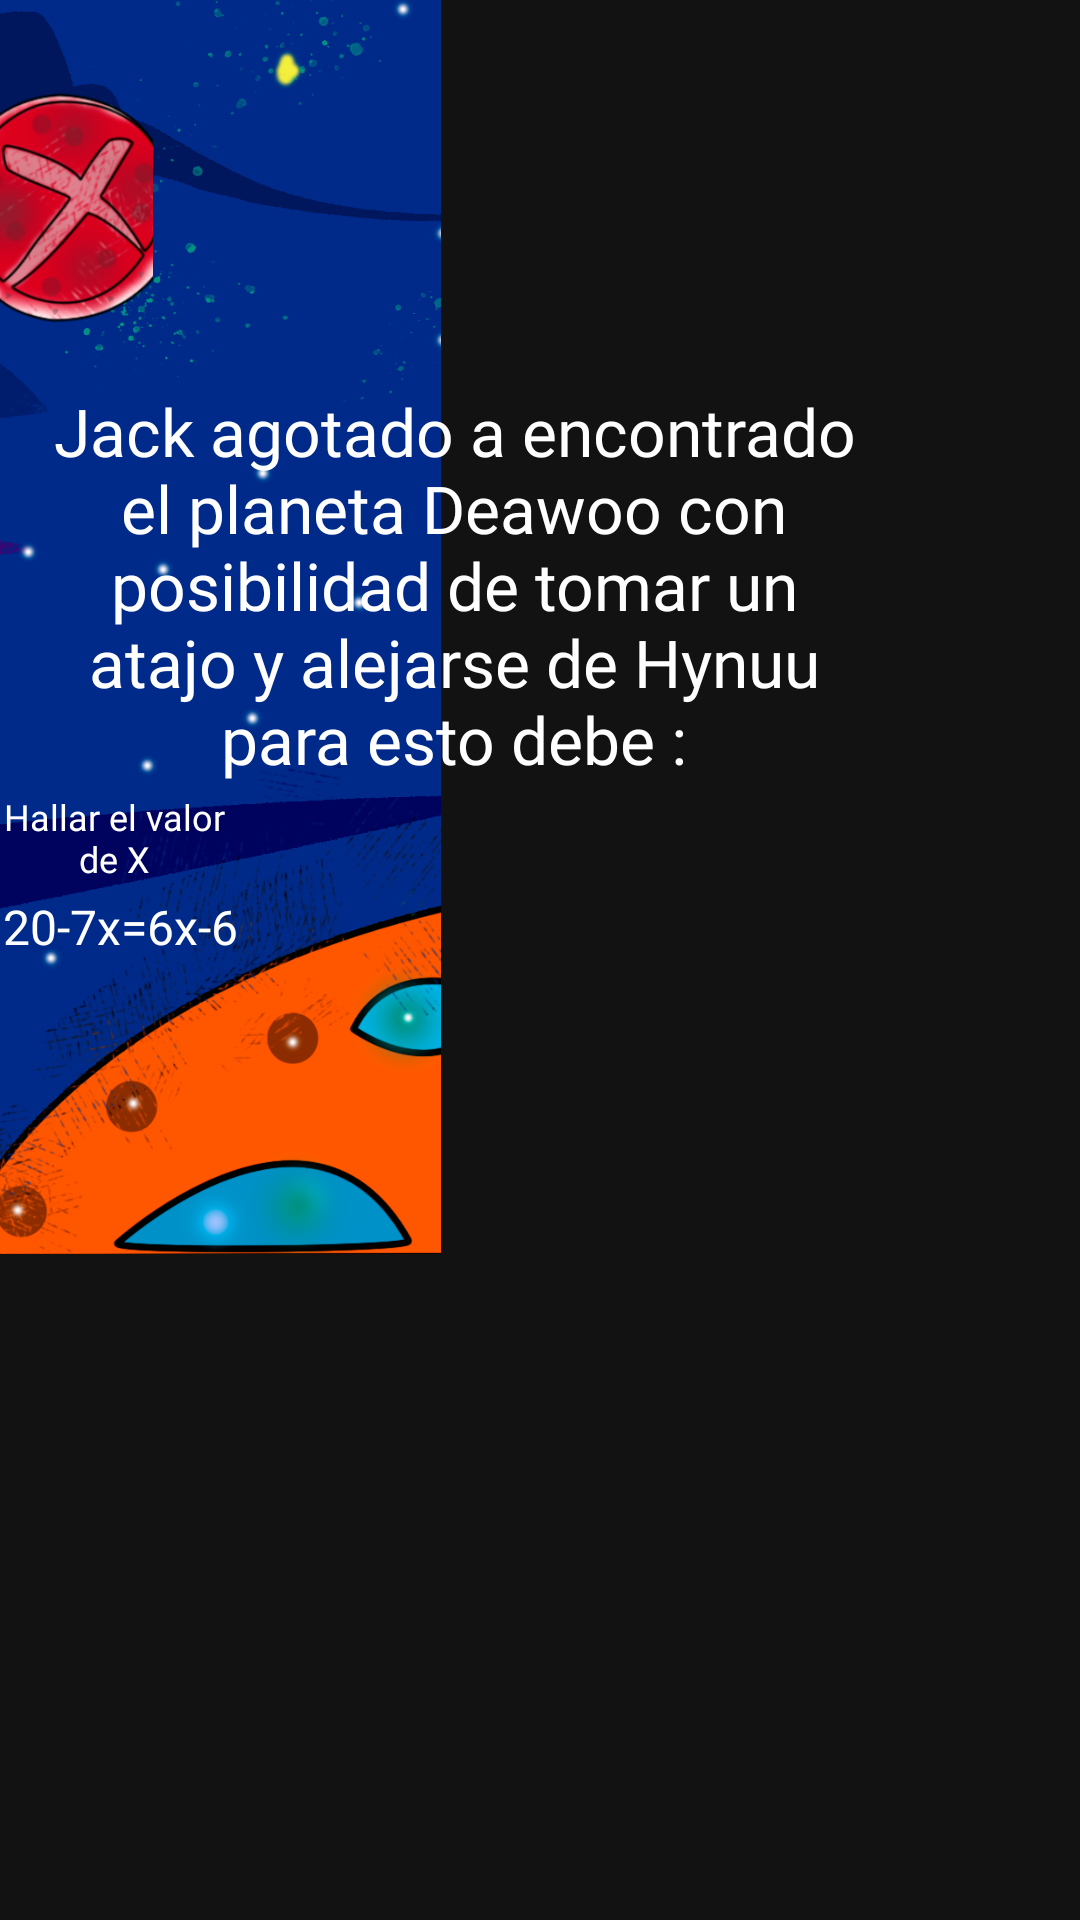

Named icons in this screenshot (1080*1920) and their bounding boxes, (x1, y1, x2, y2):
error: (0, 39, 153, 342)
